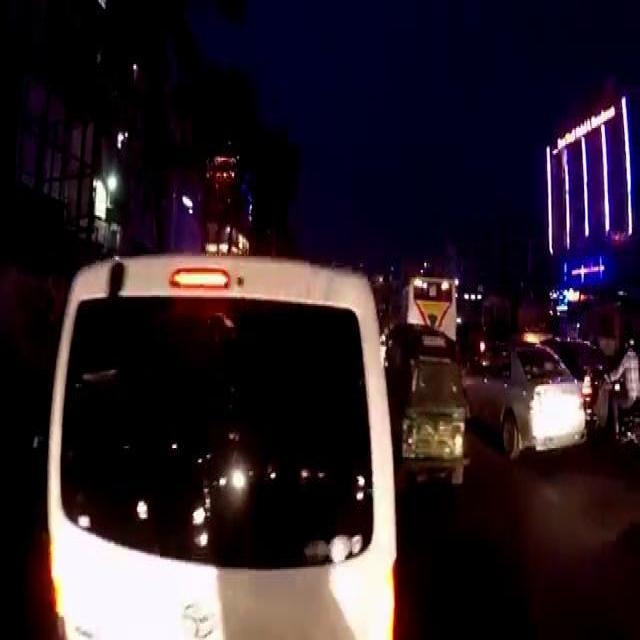10: (593, 364, 639, 450)
17: (384, 319, 466, 481)
19: (40, 244, 408, 634)
5: (458, 337, 584, 452), (550, 336, 602, 421)
Truck: (397, 271, 457, 337)
